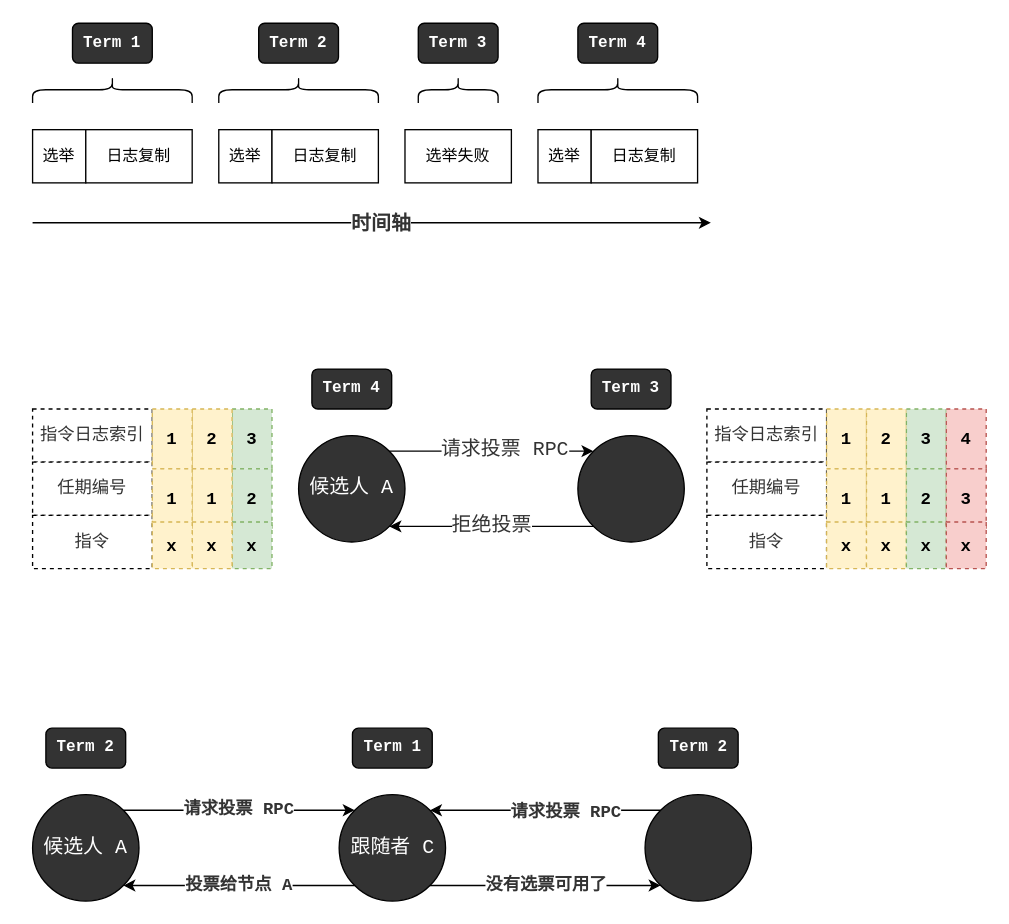
Some shapes in this 1009 by 924 pixel diagram are drawn without their labels. The shapes that lost their labels are listed below. From the top down, each one's centre as x and y in pixels, then its label:
At pixel 630 488: "跟随者 B".
At pixel 697 847: "候选人 B".
